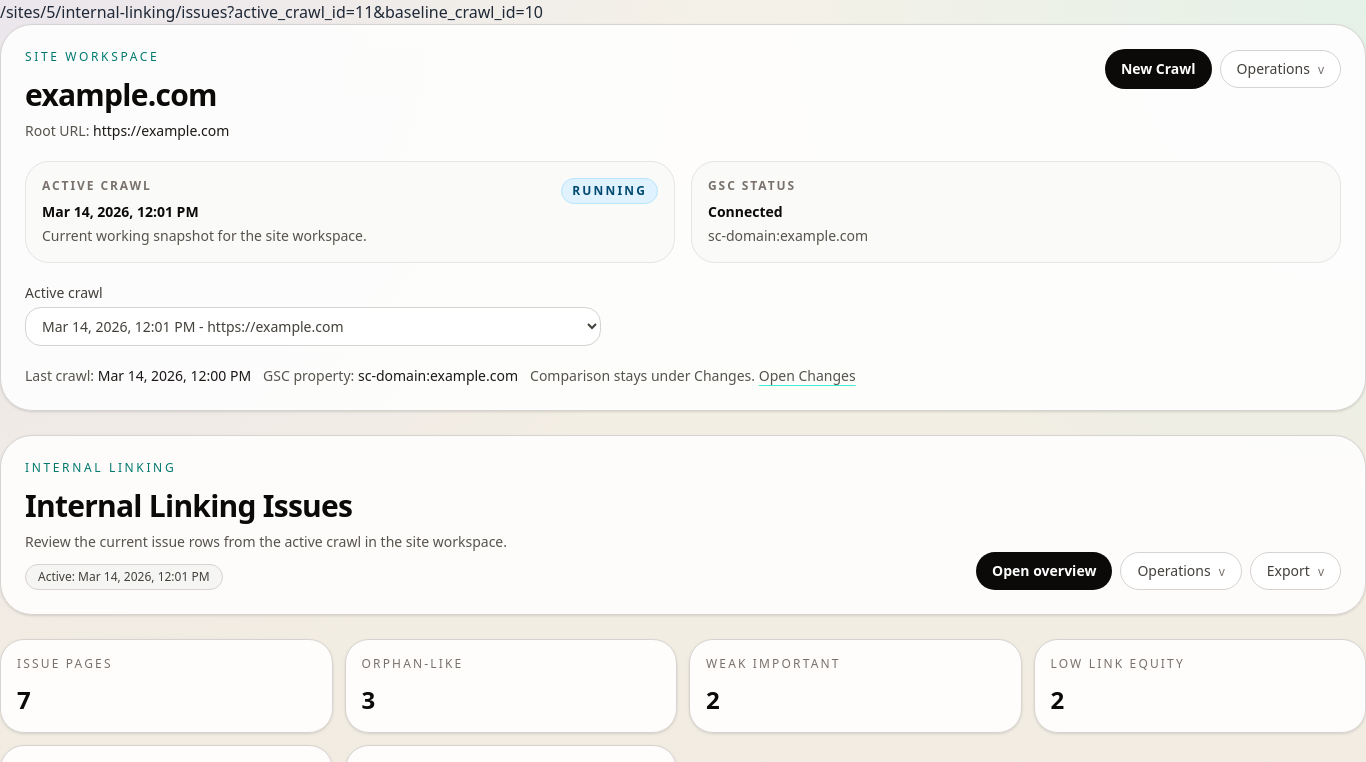
Test: SiteWorkspaceLayout › renders top-level internal linking current-state and dedicated issues subroute
Expected: the heading "Internal Linking Issues" is shown, [25,485,352,526]
What coordinates should you click on to do the following:
click the text "Operations" in the row of "Export"
I would click on:
 (1174, 570)
Its box is [1137,561,1211,580].
(page scrolled)
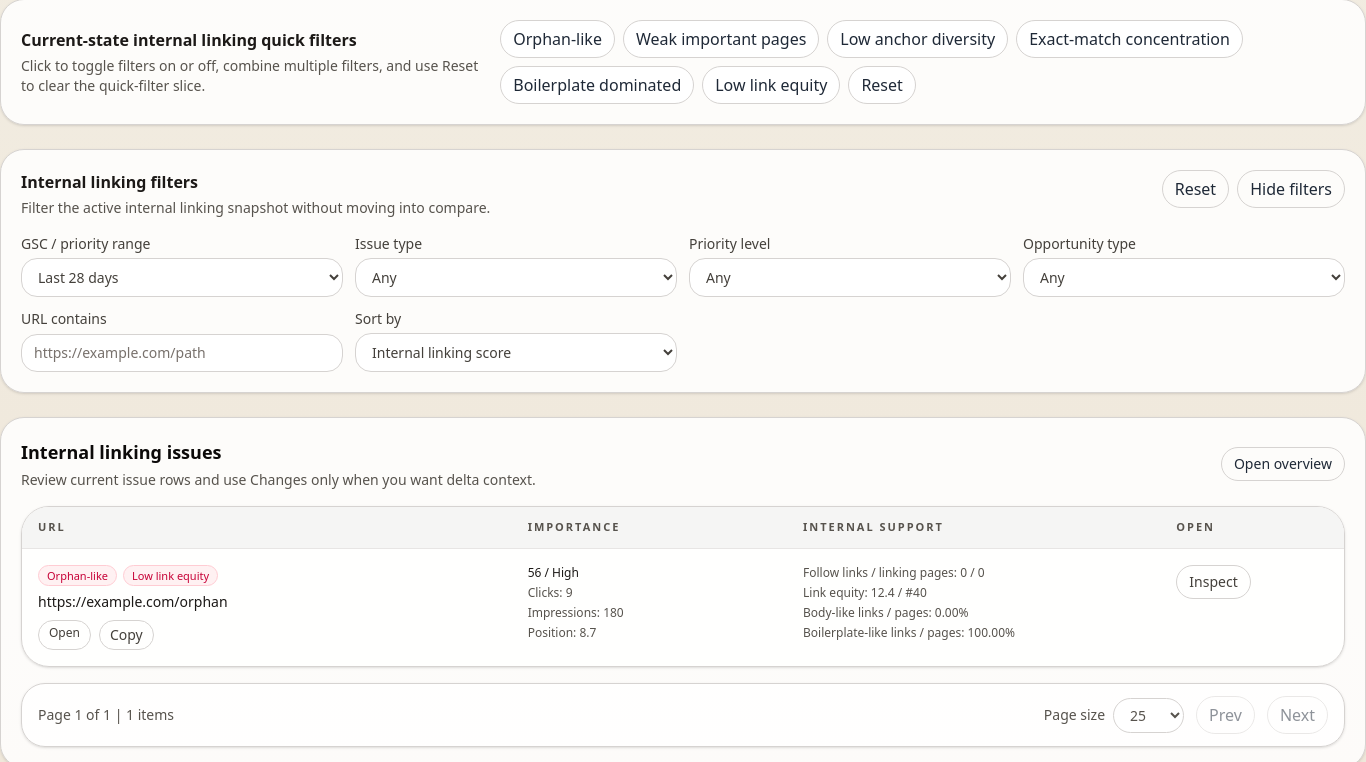
What coordinates should you click on to do the following:
click the button "Inspect"
I would click on:
 (1214, 582)
Its box is [1176,564,1251,598].
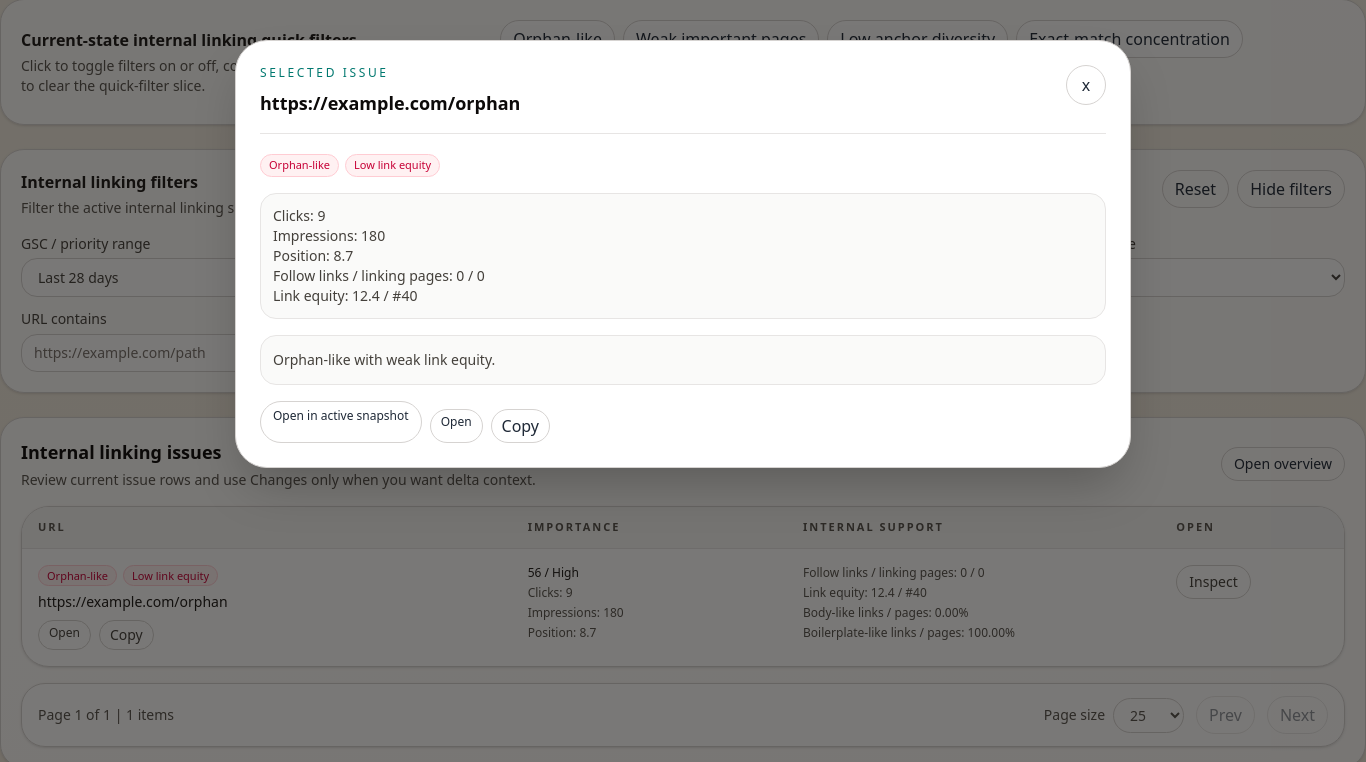
Result: the text "Selected issue" is shown at [260,64,389,81]
Result: the link "Open in active snapshot" is shown at [260,400,422,442]
What coordinates should you click on to do the following:
click the button named "Close"
I would click on:
 (1086, 85)
Its box is [1066,65,1106,105].
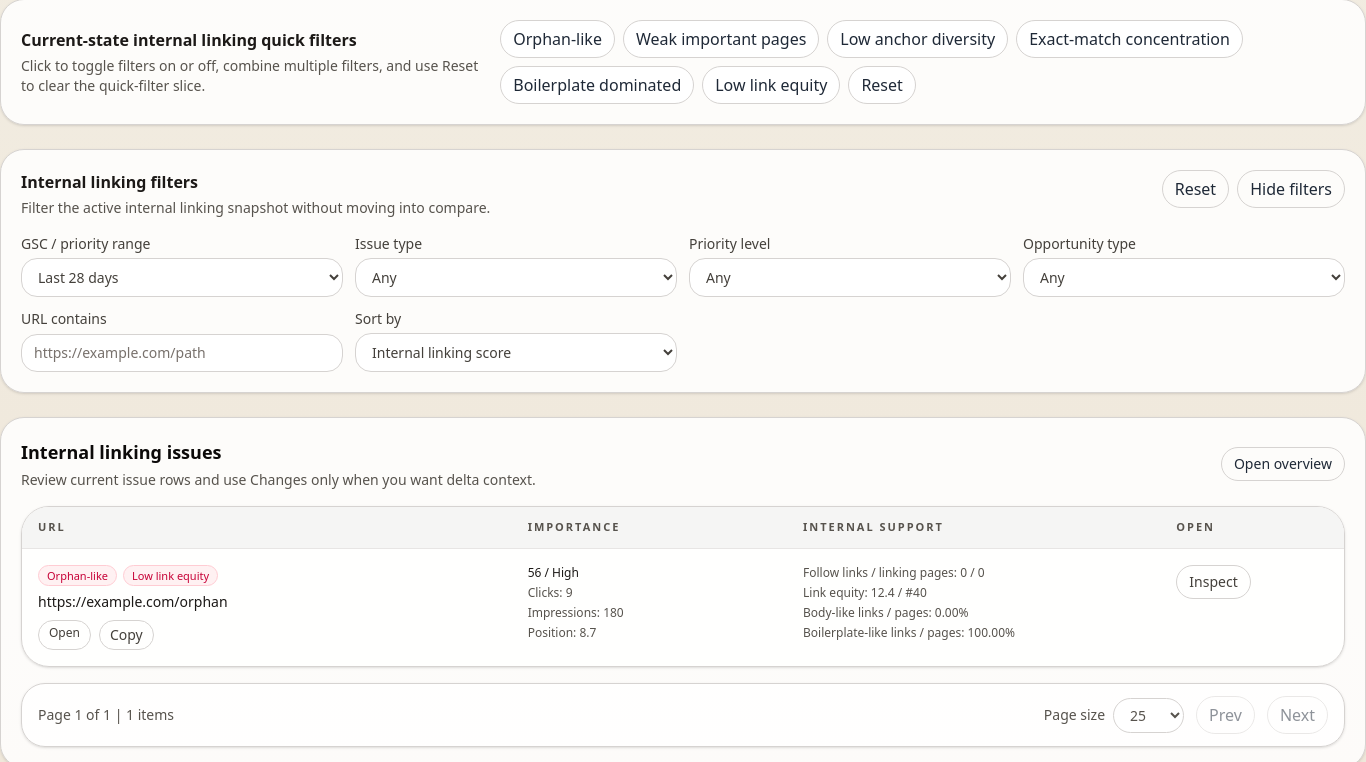
Result: the dialog is gone
